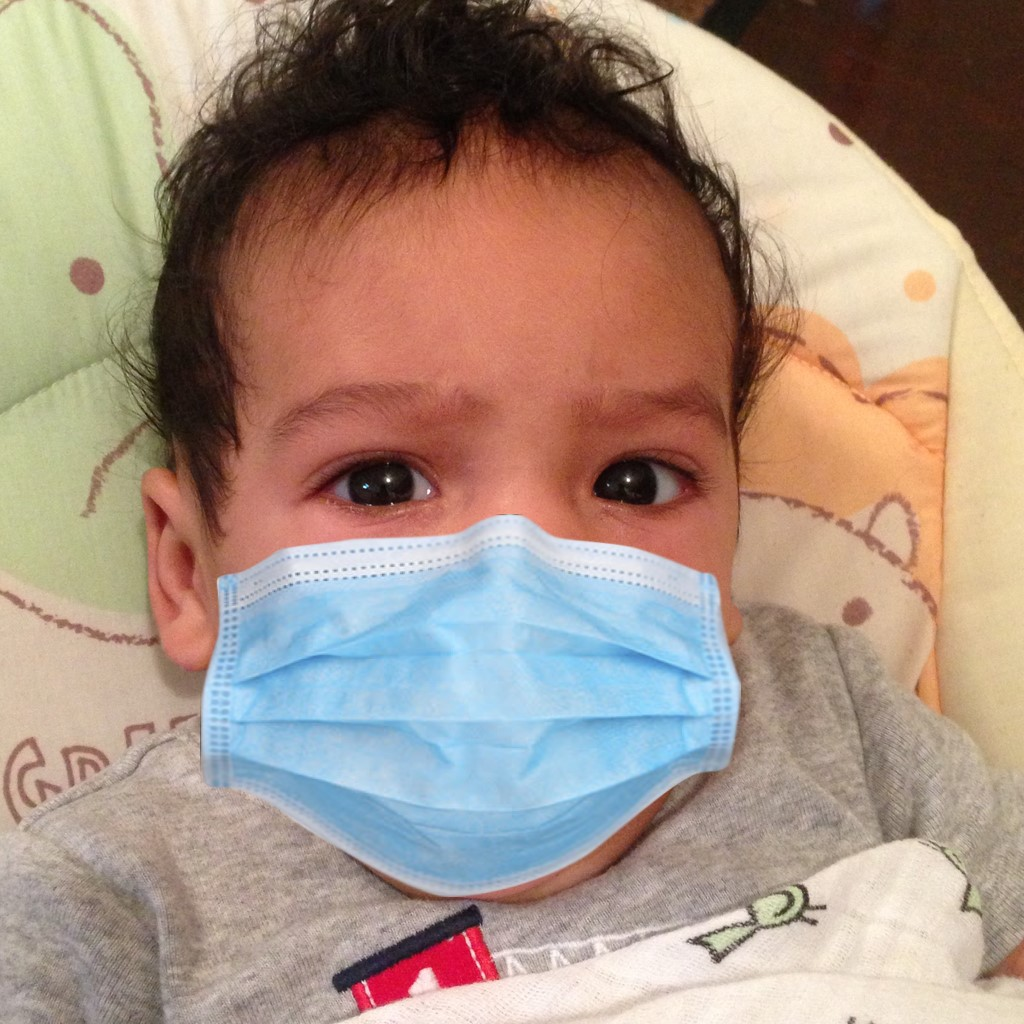con_mascara: (184, 132, 743, 883)
